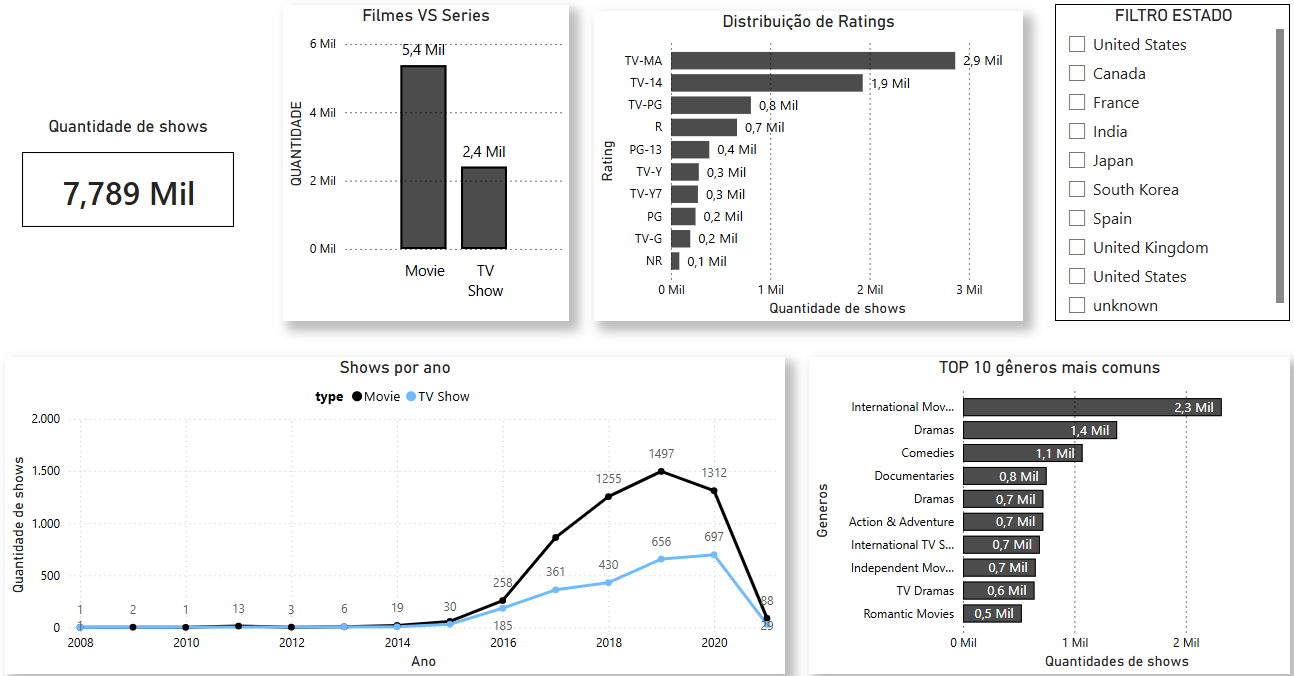

The dashboard page shown, as its layout file describes it:
{"tool":"powerbi","page":{"name":"Página 1","canvas":[1800,900],"ordinal":0},"visuals":[{"type":"columnChart","title":"Filmes VS Series","fields":{"Category":["NetFlix.type"],"Y":["Count(NetFlix.show_id)"]},"box":[479,8,286,316],"z":0},{"type":"barChart","title":"TOP 10 gêneros mais comuns","fields":{"Category":["NetFlix.genres"],"Y":["Count(NetFlix.show_id)"]},"box":[1005,360,481,317],"z":1000},{"type":"lineChart","title":"Shows por ano","fields":{"Y":["Count(NetFlix.show_id)"],"Category":["NetFlix.date_added.Variation.Hierarquia de datas.Ano"],"Series":["NetFlix.type"]},"box":[201,360,780,317],"z":2000},{"type":"barChart","title":"Distribuição de Ratings","fields":{"Y":["Count(NetFlix.show_id)"],"Category":["NetFlix.rating"]},"box":[790,14,429,310],"z":3000},{"type":"cardVisual","title":"Quantidade de shows","fields":{"Data":["Count(NetFlix.show_id)"]},"box":[201,119,246,128],"z":4000},{"type":"slicer","title":"FILTRO ESTADO","fields":{"Values":["NetFlix.country"]},"box":[1251,7,235,317],"z":5000}]}

Visuals, with their boxes on the page's 1800x900 design canvas (x1, y1, x2, y2). These are canvas units, not pixel positions in the 1294x676 screenshot, which may show the page scaled, cropped or inside an application window:
"Filmes VS Series" columnChart: {"left": 479, "top": 8, "right": 765, "bottom": 324}
"TOP 10 gêneros mais comuns" barChart: {"left": 1005, "top": 360, "right": 1486, "bottom": 677}
"Shows por ano" lineChart: {"left": 201, "top": 360, "right": 981, "bottom": 677}
"Distribuição de Ratings" barChart: {"left": 790, "top": 14, "right": 1219, "bottom": 324}
"Quantidade de shows" cardVisual: {"left": 201, "top": 119, "right": 447, "bottom": 247}
"FILTRO ESTADO" slicer: {"left": 1251, "top": 7, "right": 1486, "bottom": 324}
